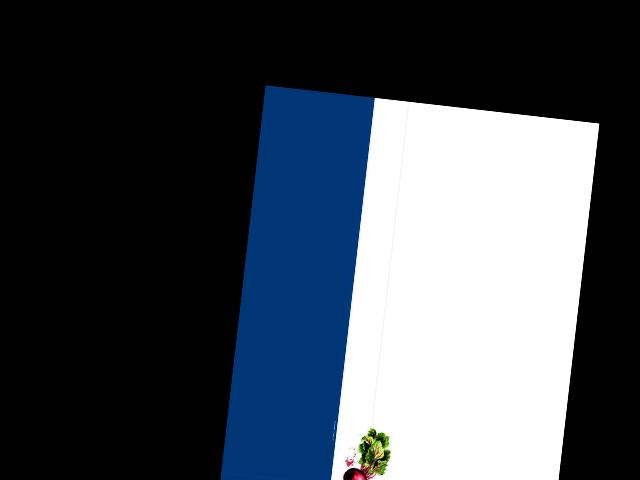beet: (336, 424, 392, 480)
